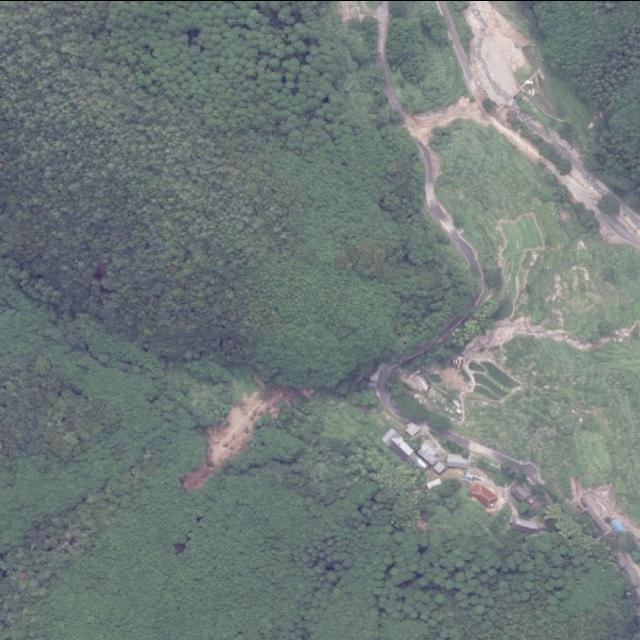landslide: (181, 380, 313, 491)
